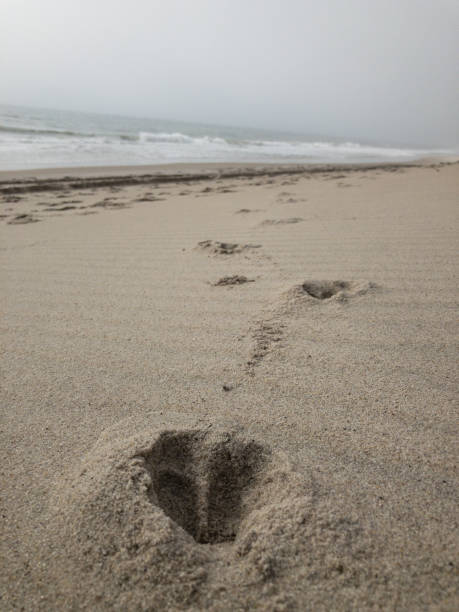animal_footprint: (42, 413, 349, 609), (144, 431, 265, 543), (245, 280, 376, 375), (245, 317, 285, 374), (297, 280, 375, 299), (196, 240, 260, 255), (212, 274, 254, 285), (259, 217, 304, 227), (276, 191, 306, 203), (7, 213, 39, 224), (235, 208, 260, 213)
